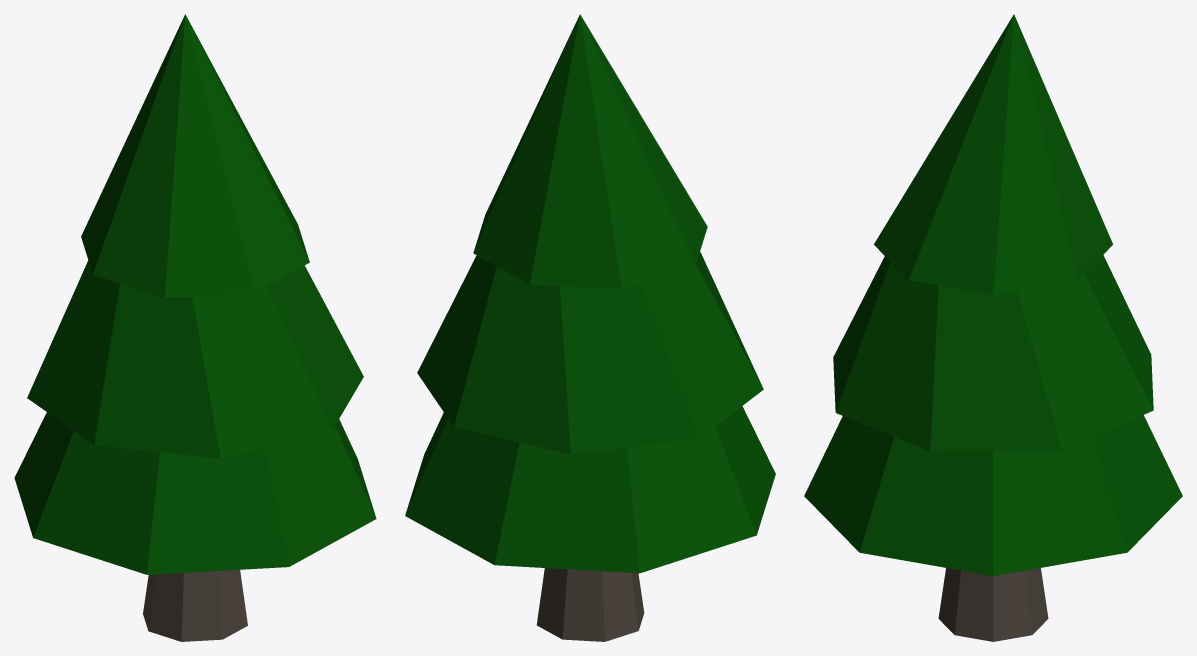
The model's file is Tree_reg.fbx.
The picture shows the model from 3 angles, left to right: view 1: azimuth 30°, elevation 25°; view 2: azimuth 150°, elevation 25°; view 3: azimuth 270°, elevation 25°; orthographic projection. The views are drawn at different scales.
Visible parts, largest first — view 1: pCylinder1; view 2: pCylinder1; view 3: pCylinder1.
Boxes of the visible parts, box(x1,y1,x2,y2) form: pCylinder1: box(14, 14, 376, 641); pCylinder1: box(405, 14, 775, 641); pCylinder1: box(804, 14, 1182, 641).
Bounding box in the file's own units: 14.21 × 25.03 × 14.21.
